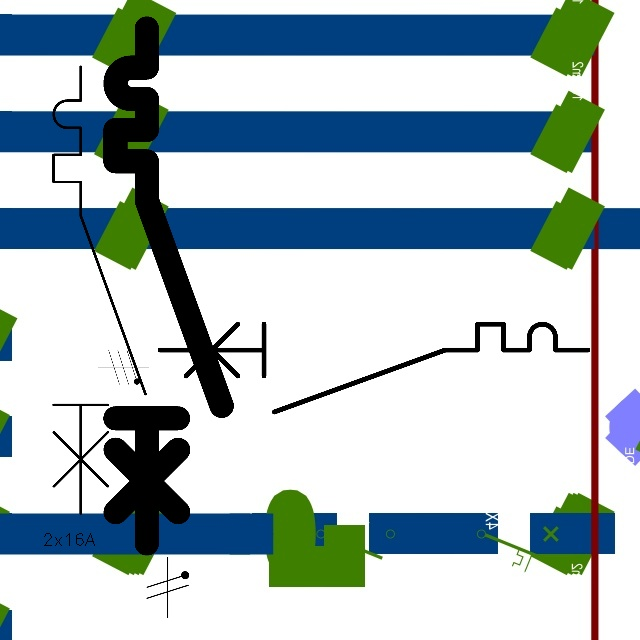interruptor_termomagnetico: (102, 15, 234, 556), (42, 55, 157, 525), (148, 313, 598, 423)
